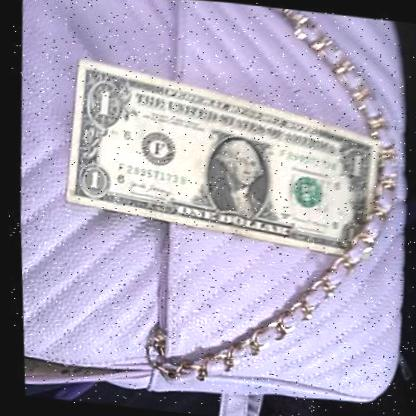one-front: (45, 58, 396, 266)
